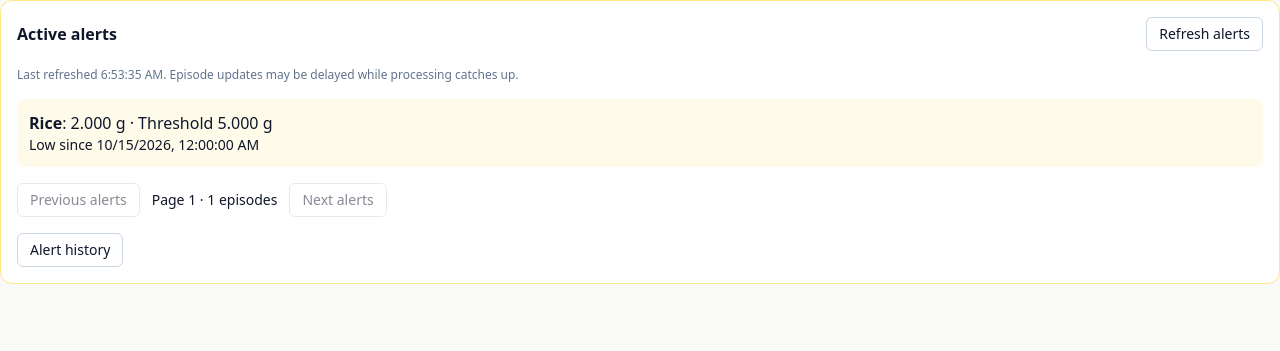
Test: InventoryAlerts › keeps stale data on errors and retries without claiming an empty result
Expected: the text "Rice" is shown, [29,112,62,134]
Click the button "Refresh alerts". click: click(1205, 34)
box: [1146,17,1263,51]
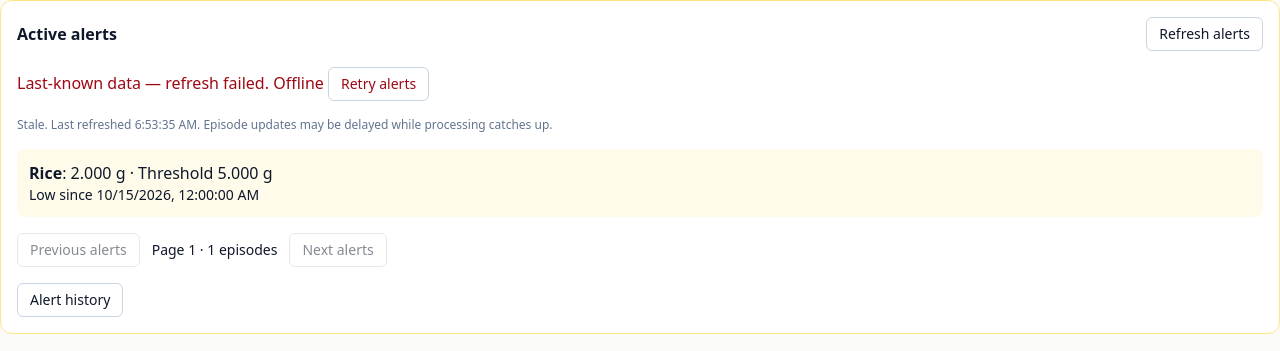
Expected: the text "Rice" is shown, [29,162,62,184]
Expected: the message shows "Last-known data", [17,72,273,94]
Click the button "Retry alerts". click: click(379, 84)
box: [328,67,429,101]
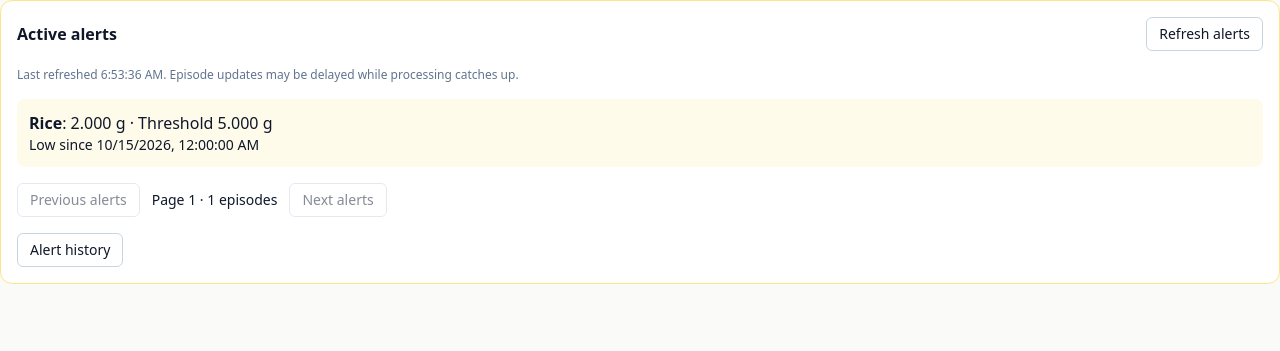
Expected: the message "Last-known data — refresh failed. Offline Retry alerts" is gone
